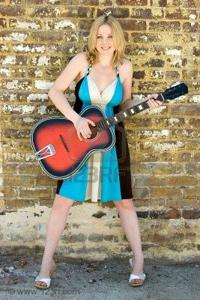person: (34, 16, 163, 289)
